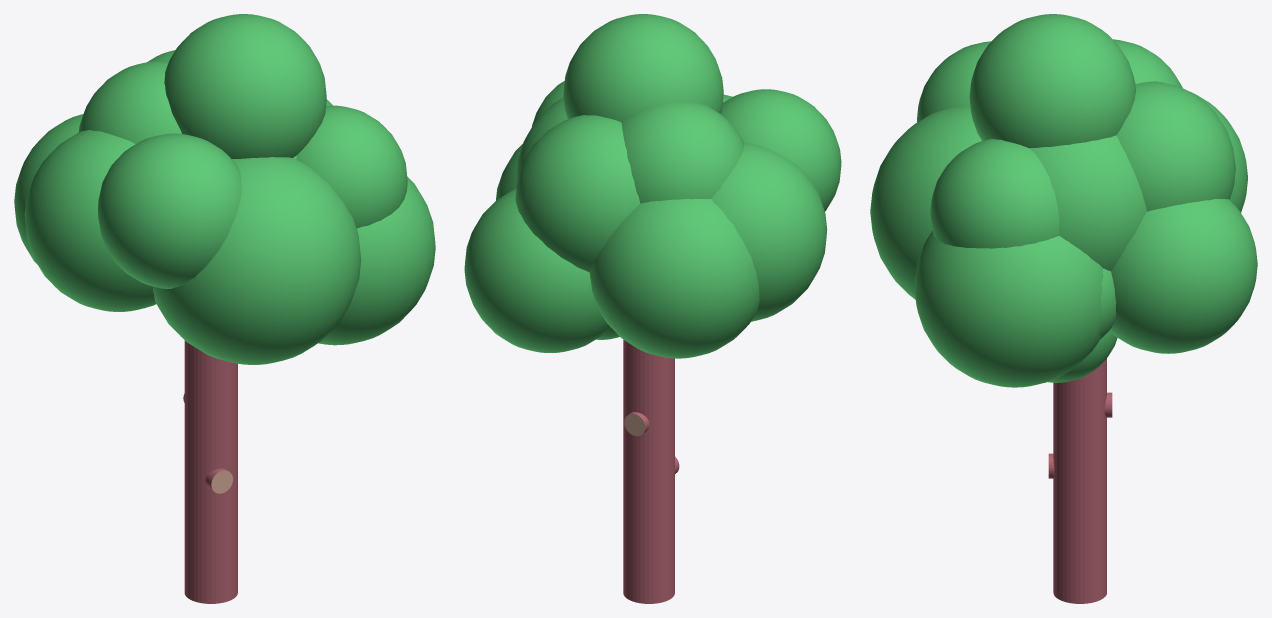
Rendered from stree.fbx.
The picture shows the model from 3 angles, left to right: view 1: azimuth 30°, elevation 25°; view 2: azimuth 150°, elevation 25°; view 3: azimuth 270°, elevation 25°; orthographic projection. The views are drawn at different scales.
Visible parts, largest first — view 1: 구체.004, 실린더.010; view 2: 구체.004, 실린더.010; view 3: 구체.004, 실린더.010.
Part boxes in pixels (x1,y1,x2,y2): 구체.004: [14, 14, 435, 364]; 실린더.010: [183, 340, 237, 603]; 구체.004: [464, 14, 841, 358]; 실린더.010: [623, 340, 679, 603]; 구체.004: [870, 14, 1257, 387]; 실린더.010: [1048, 358, 1112, 603].
Size of the model in its own units: 1522 by 2383 by 1442.
